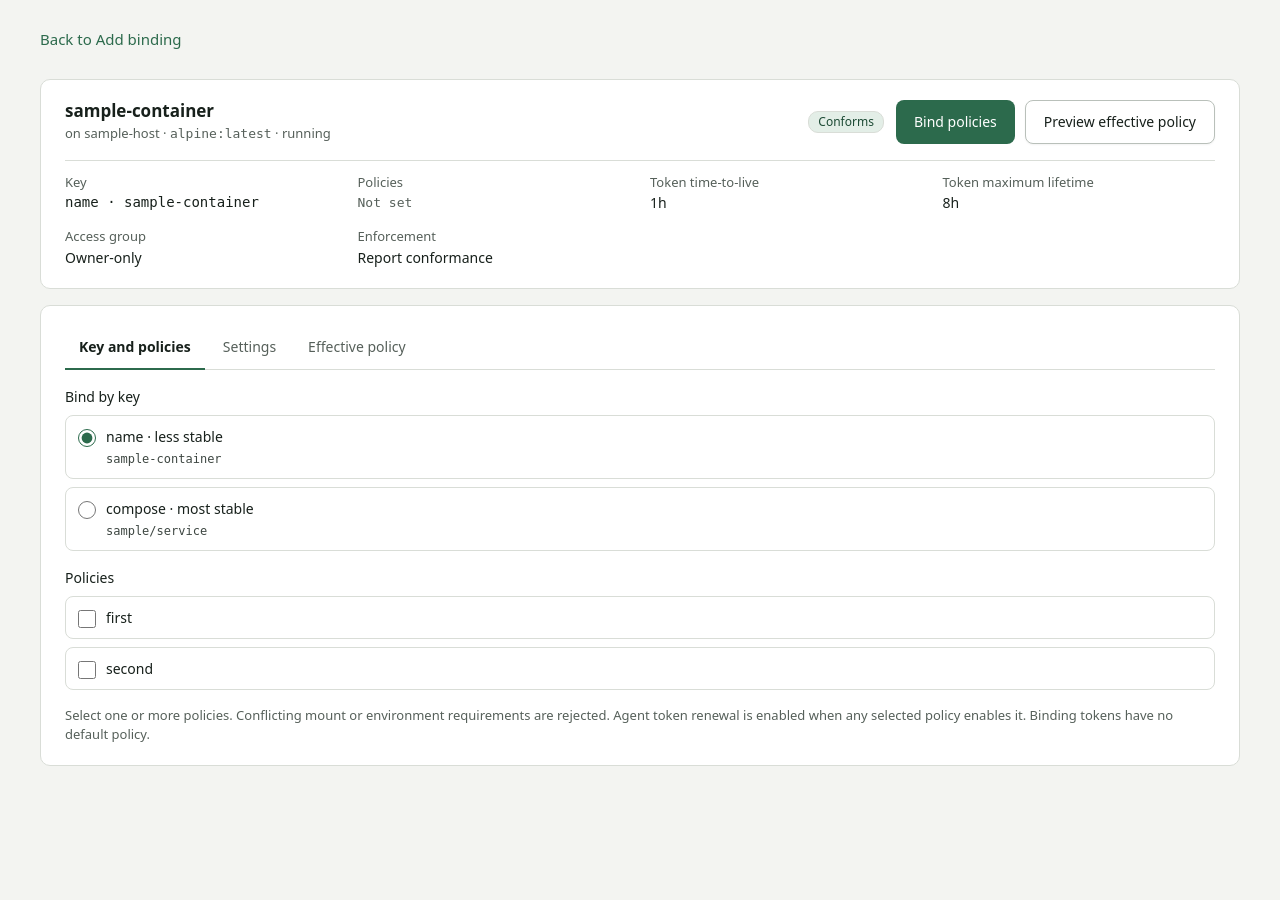
tab structure › shows a preview failure on the effective policy tab
The image size is (1280, 900).
Click the button "Preview effective policy".
click(1120, 122)  # box x1=1025 y1=100 x2=1215 y2=144
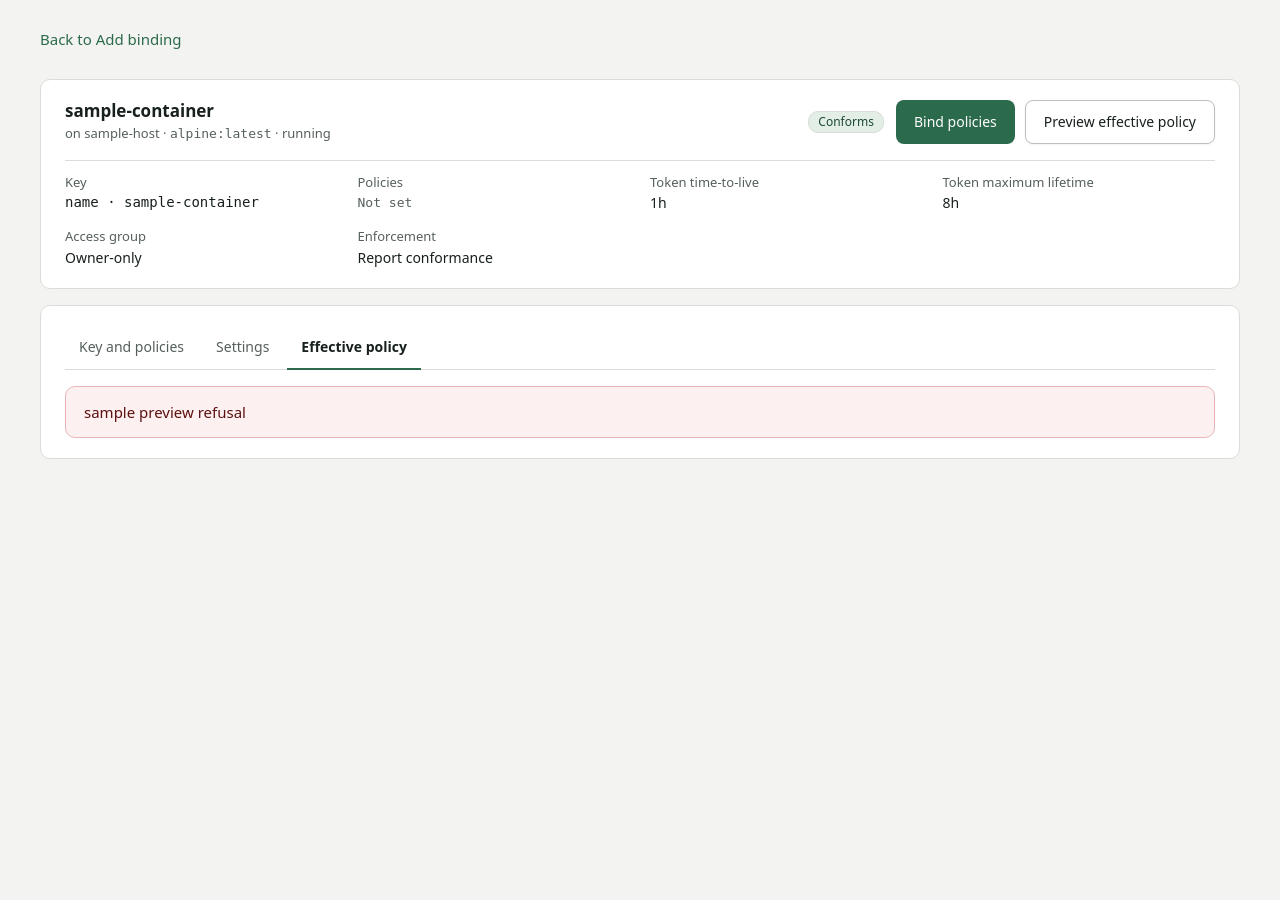
Check: the tab "Effective policy" is shown, box x1=287 y1=326 x2=421 y2=370
Check: the message reads "sample preview refusal", box x1=84 y1=402 x2=246 y2=422
Check: the message "sample preview refusal" is shown, box x1=65 y1=386 x2=1215 y2=438
